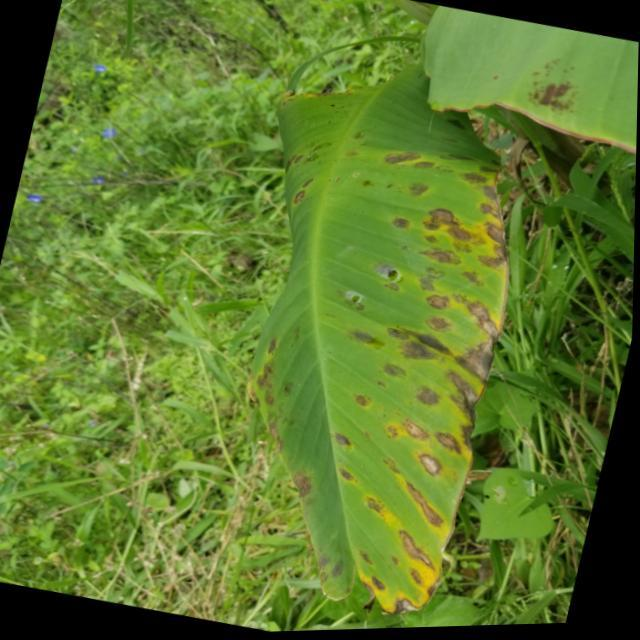Early_rust: (205, 71, 580, 613)
